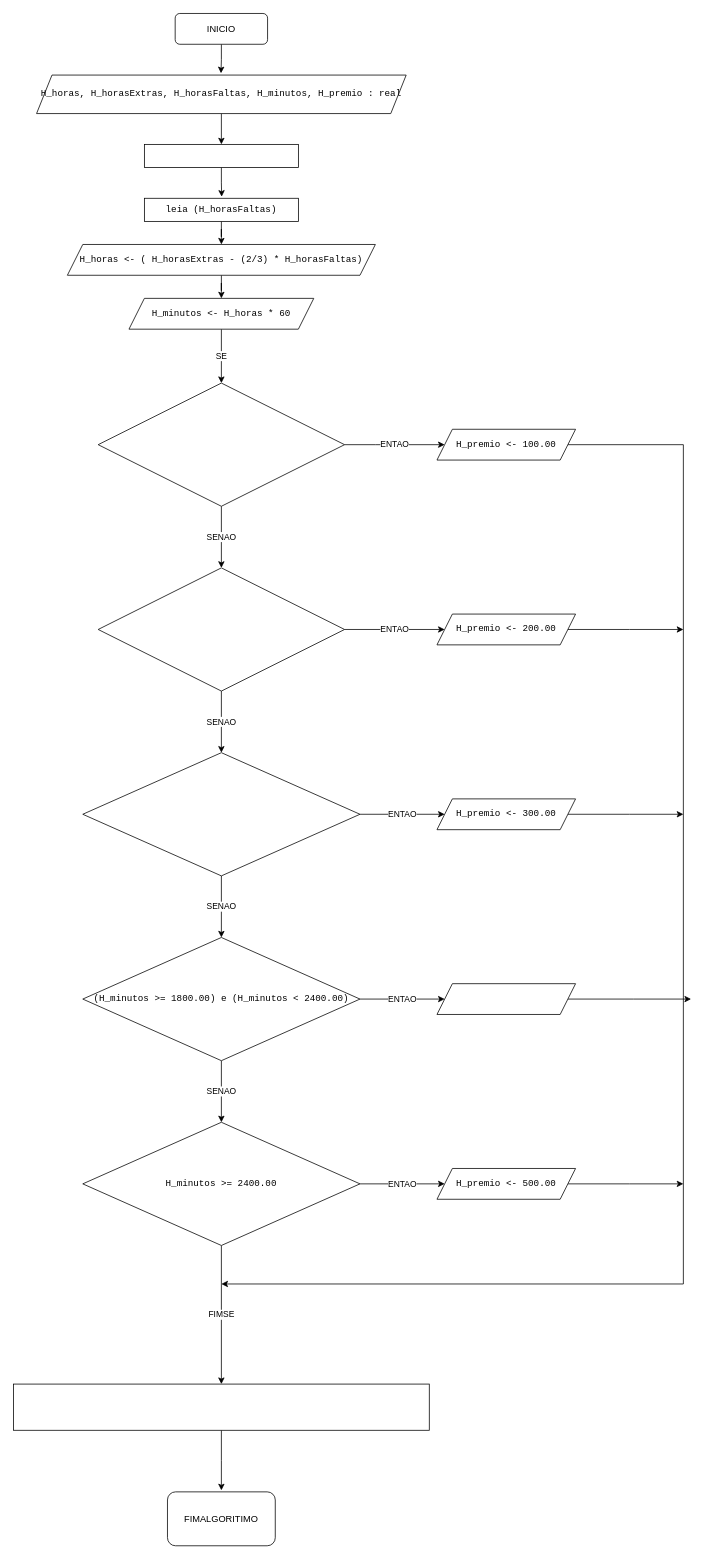
The diagram is 711 pixels wide and 1559 high, and some of its shapes have lost their labels. The shapes that lost their labels are listed below. From the top down, each one's box as (x1, y1, x2, y2) in pixels, then its label:
(144, 144, 298, 167): leia (H_horasExtras)
(97, 382, 345, 506): H_minutos < 600
(97, 567, 345, 691): (H_minutos >= 600) e (H_minutos < 1200.00)
(82, 752, 360, 876): (H_minutos >= 1200.00) e (H_minutos < 1800.00)
(436, 983, 576, 1014): H_premio <- 400.00
(13, 1383, 429, 1430): escreva ("O Funcionario vai receber o premio no valor de: R$", H_premio)
